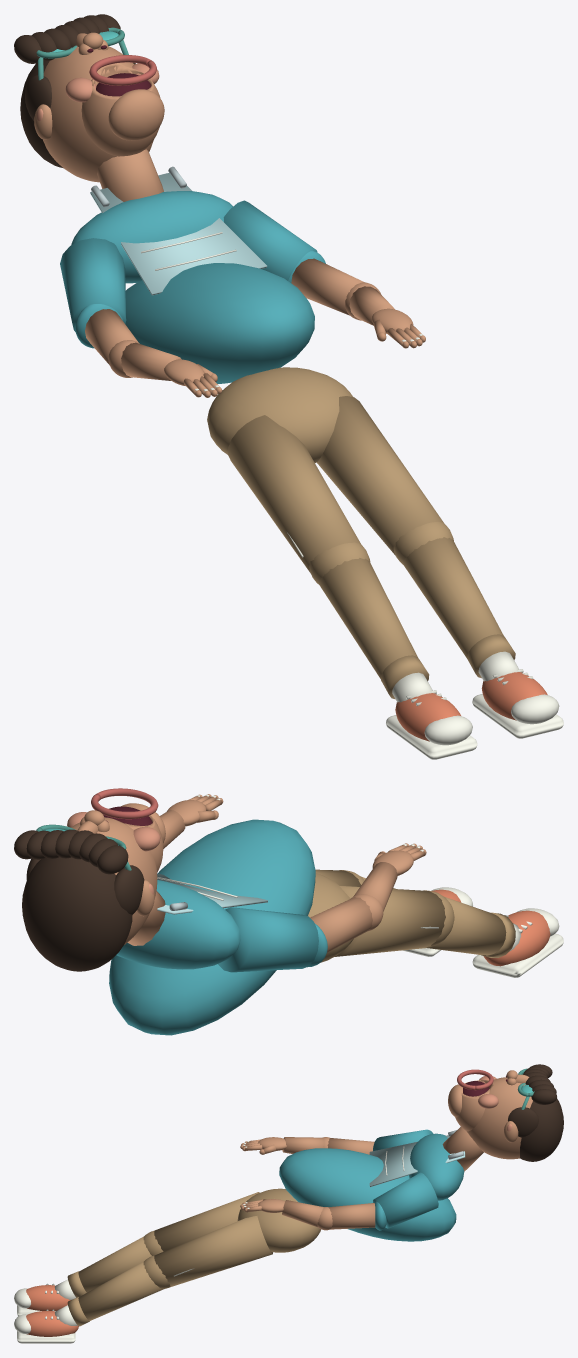
The model's file is patient.glb.
The picture shows the model from 3 angles, top to bottom: view 1: azimuth 30°, elevation 25°; view 2: azimuth 150°, elevation 25°; view 3: azimuth 270°, elevation 25°; orthographic projection. The views are drawn at different scales.
Visible parts, largest first — view 1: Patient chinos, Patient shirt, Patient skin, Warm ivory, Woven dental bib, Patient hair, Patient coral sneakers, Patient lips; view 2: Patient shirt, Patient hair, Patient skin, Patient chinos, Warm ivory, Patient coral sneakers, Patient lips, Woven dental bib, Soft cheek blush, Oral interior; view 3: Patient chinos, Patient shirt, Patient skin, Patient hair, Warm ivory, Patient coral sneakers, Woven dental bib, Patient lips.
Boxes of the visible parts, <box> form: Patient chinos: <box>207,367,515,699</box>; Patient shirt: <box>60,191,325,383</box>; Patient skin: <box>34,32,425,397</box>; Warm ivory: <box>141,232,563,759</box>; Woven dental bib: <box>90,173,267,295</box>; Patient hair: <box>14,14,135,168</box>; Patient coral sneakers: <box>395,672,547,741</box>; Patient lips: <box>89,55,156,85</box>; Patient shirt: <box>109,819,327,1035</box>; Patient hair: <box>14,829,144,971</box>; Patient skin: <box>71,794,426,952</box>; Patient chinos: <box>308,869,515,962</box>; Warm ivory: <box>157,794,563,977</box>; Patient coral sneakers: <box>432,889,550,966</box>; Patient lips: <box>91,788,158,819</box>; Woven dental bib: <box>157,873,267,914</box>; Soft cheek blush: <box>67,812,160,894</box>; Oral interior: <box>103,806,152,825</box>; Patient chinos: <box>67,1188,320,1326</box>; Patient shirt: <box>279,1129,464,1241</box>; Patient skin: <box>240,1070,532,1230</box>; Patient hair: <box>508,1064,563,1161</box>; Warm ivory: <box>14,1141,404,1343</box>; Patient coral sneakers: <box>26,1285,78,1336</box>; Woven dental bib: <box>369,1135,465,1187</box>; Patient lips: <box>457,1069,493,1090</box>.
Bounding box in the file's own units: 0.996 × 1.48 × 2.89.
